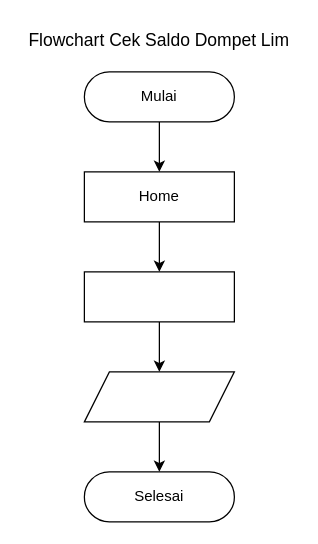
Some shapes in this 318 by 544 pixel diagram are drawn without their labels. Each missing label, with the centre of its shape:
"Cek Saldo" belongs at (x=158, y=296).
"Tampilkan Saldo E-Wallet" belongs at (x=158, y=396).
